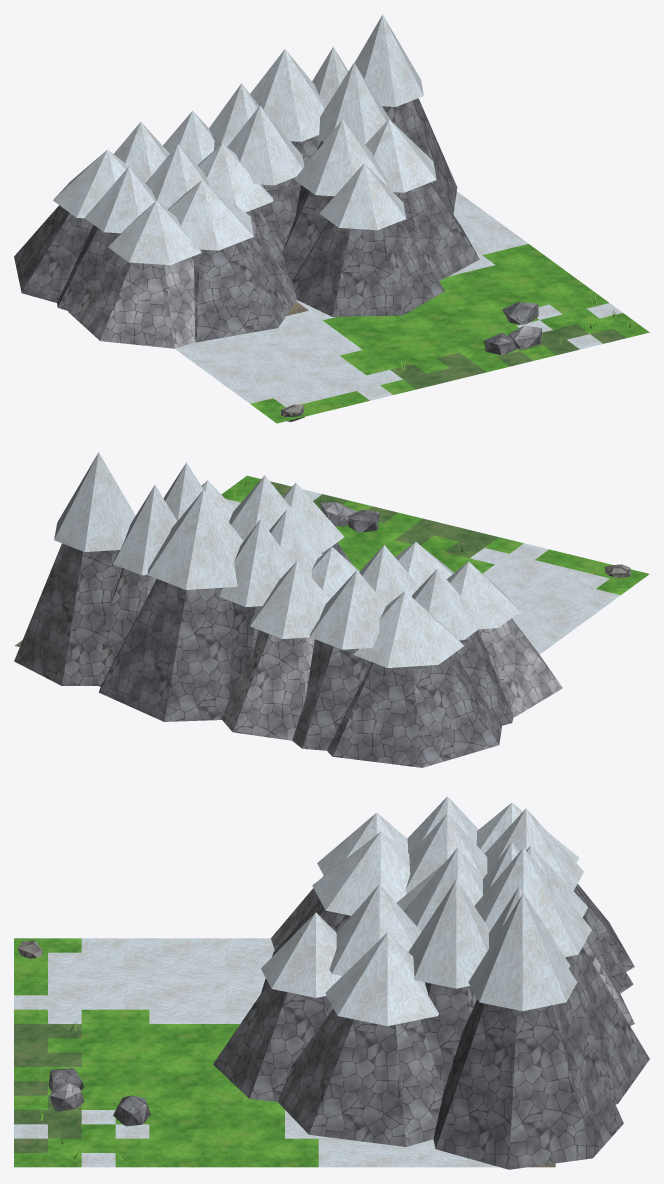
File: chunk_7_1.glb
3 views of the same model, one above another, from view 1: azimuth 30°, elevation 25°; view 2: azimuth 150°, elevation 25°; view 3: azimuth 270°, elevation 25° (orthographic). The views are drawn at different scales.
Parts seen in each view (by area): view 1: chunk_7_1; view 2: chunk_7_1; view 3: chunk_7_1.
Boxes of the visible parts, <box> form: chunk_7_1: <box>14,14,649,423</box>; chunk_7_1: <box>14,452,649,767</box>; chunk_7_1: <box>14,796,649,1169</box>.
Size of the model in its own units: 18.66 by 8.06 by 18.78.
Materials: 9 (8 with a texture image).
